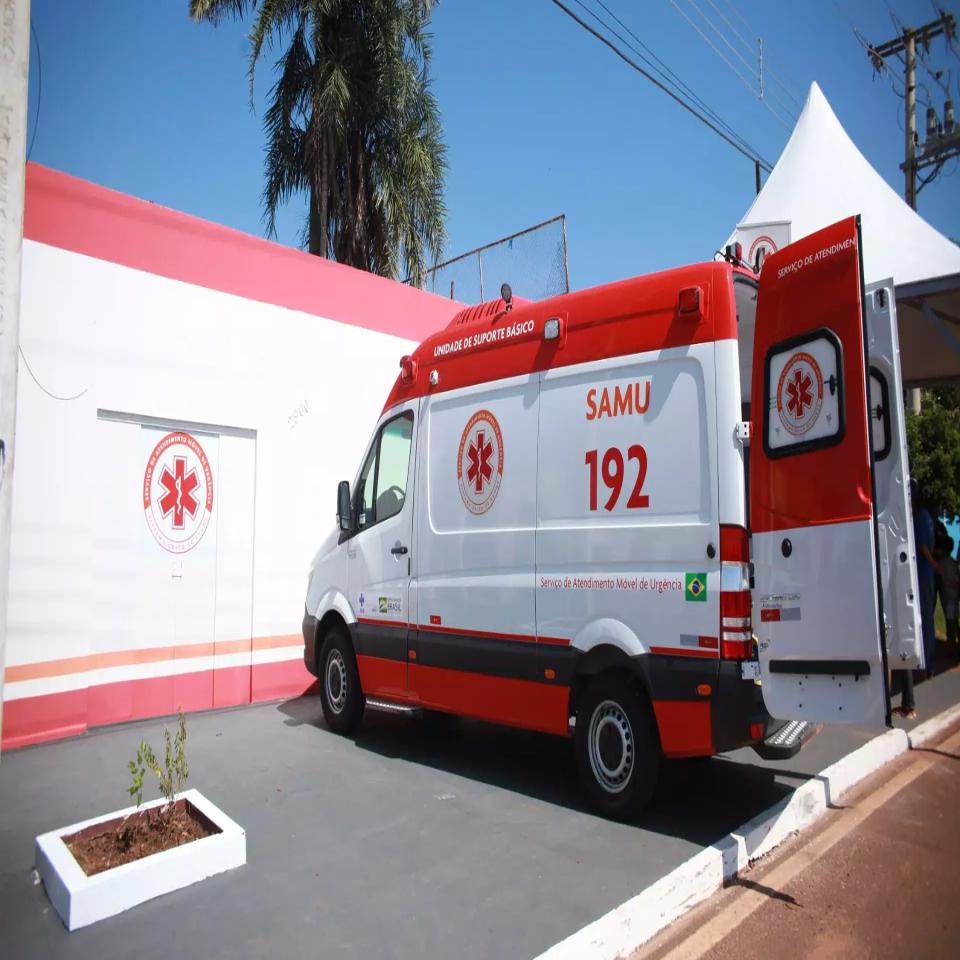bombeiro: (298, 210, 929, 823)
